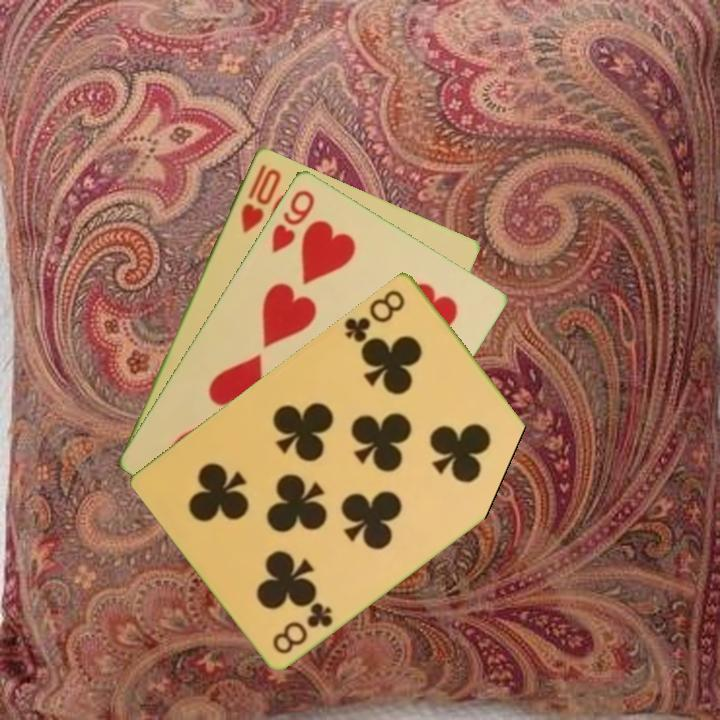10h: (237, 160, 284, 235)
8c: (341, 285, 408, 349), (268, 598, 336, 657)
9h: (268, 185, 318, 255)
